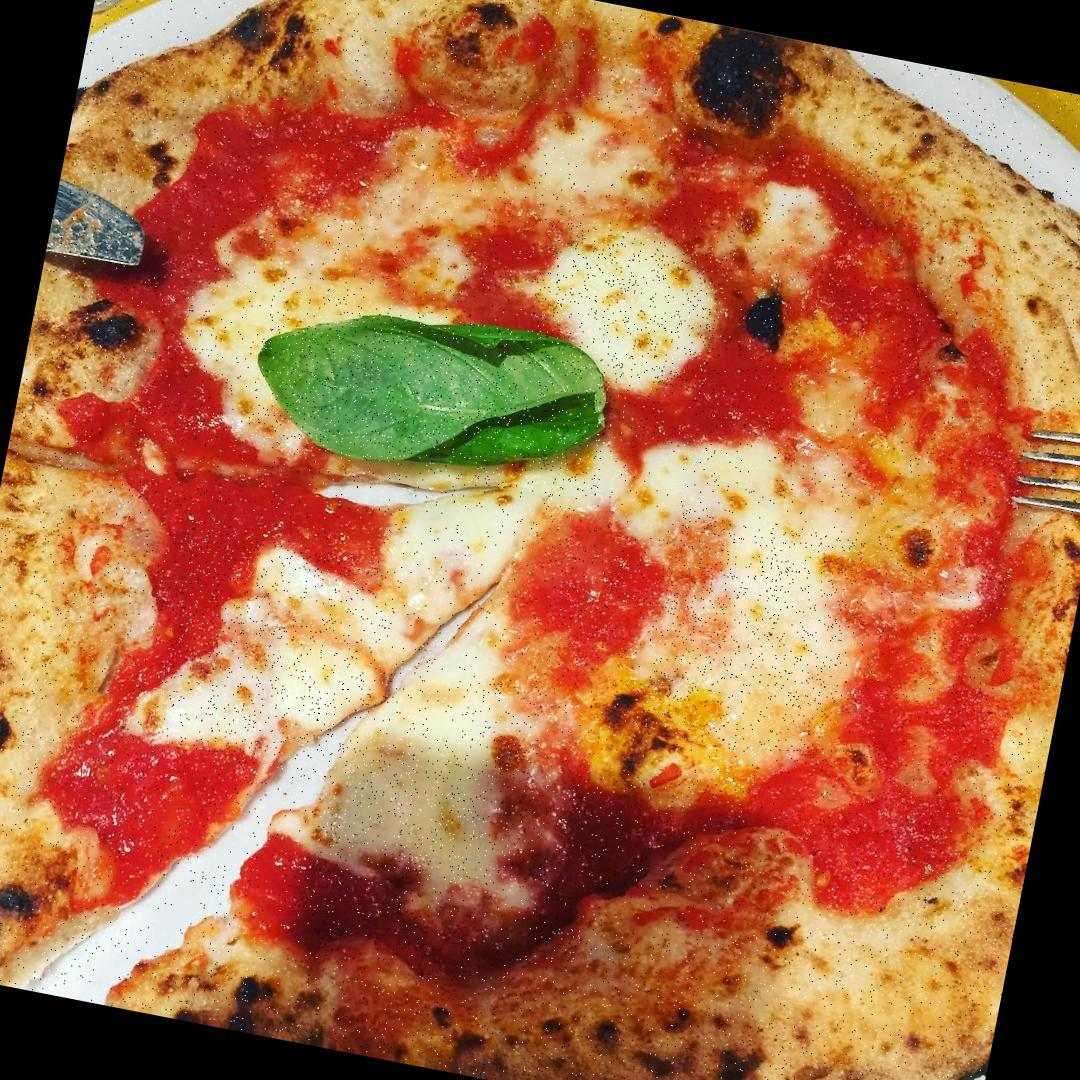Basil: (245, 284, 622, 506)
Cheese: (150, 526, 406, 792), (640, 506, 867, 768), (316, 648, 546, 894), (523, 219, 730, 394)
Pizza: (0, 0, 1080, 1080)
